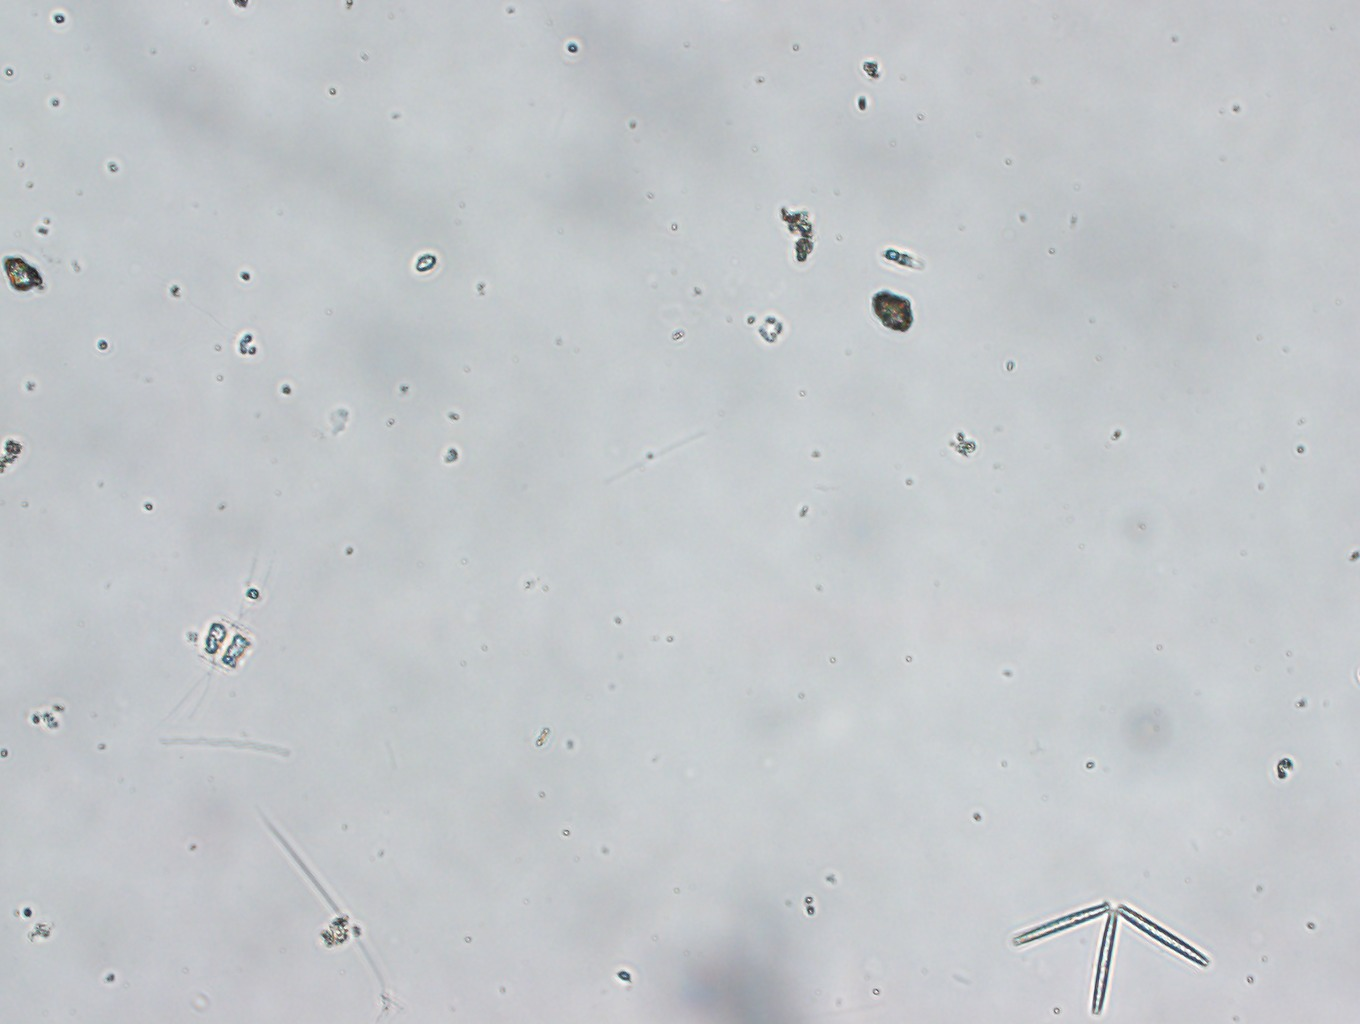thalassionema frauenfeldii: (1011, 894, 1221, 1022)
